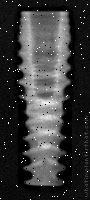Neodent: (17, 10, 73, 188)
